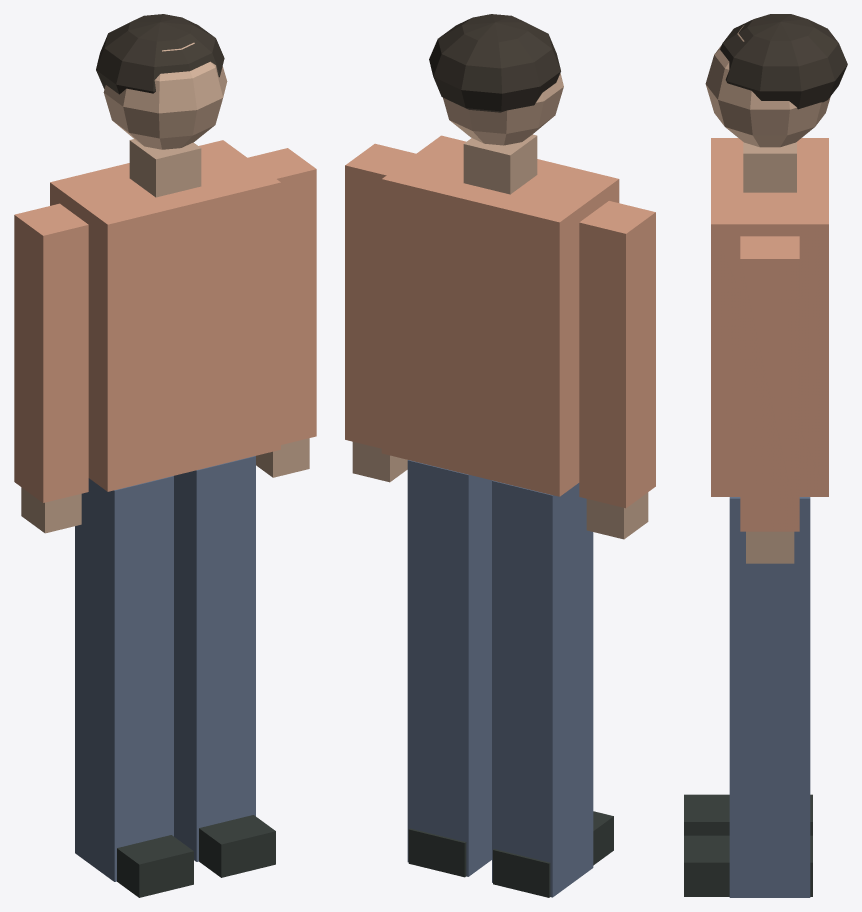
Rendered from person.glb.
3 renders of one model, left to right at view 1: azimuth 30°, elevation 25°; view 2: azimuth 150°, elevation 25°; view 3: azimuth 270°, elevation 25°, orthographic. The views are drawn at different scales.
Parts seen in each view (by area): view 1: torso, leg_r, leg_l, arm_r, head, arm_l; view 2: torso, leg_r, leg_l, arm_r, head, arm_l; view 3: leg_l, torso, arm_l, head, leg_r.
Boxes of the visible parts, x1,y1,x2,y2 form: torso: (50,140,280,491); leg_r: (75,476,193,897); leg_l: (174,456,275,877); arm_r: (14,203,88,533); head: (96,14,227,197); arm_l: (247,148,316,477); torso: (381,135,619,496); leg_r: (492,480,613,897); leg_l: (407,460,491,877); arm_r: (579,201,655,539); head: (429,14,563,194); arm_l: (345,143,415,482); leg_l: (684,497,812,897); torso: (711,138,828,496); arm_l: (740,236,799,563); head: (705,14,847,192); leg_r: (684,794,812,835).
Size of the model in its own units: 0.6 by 1.73 by 0.305.
